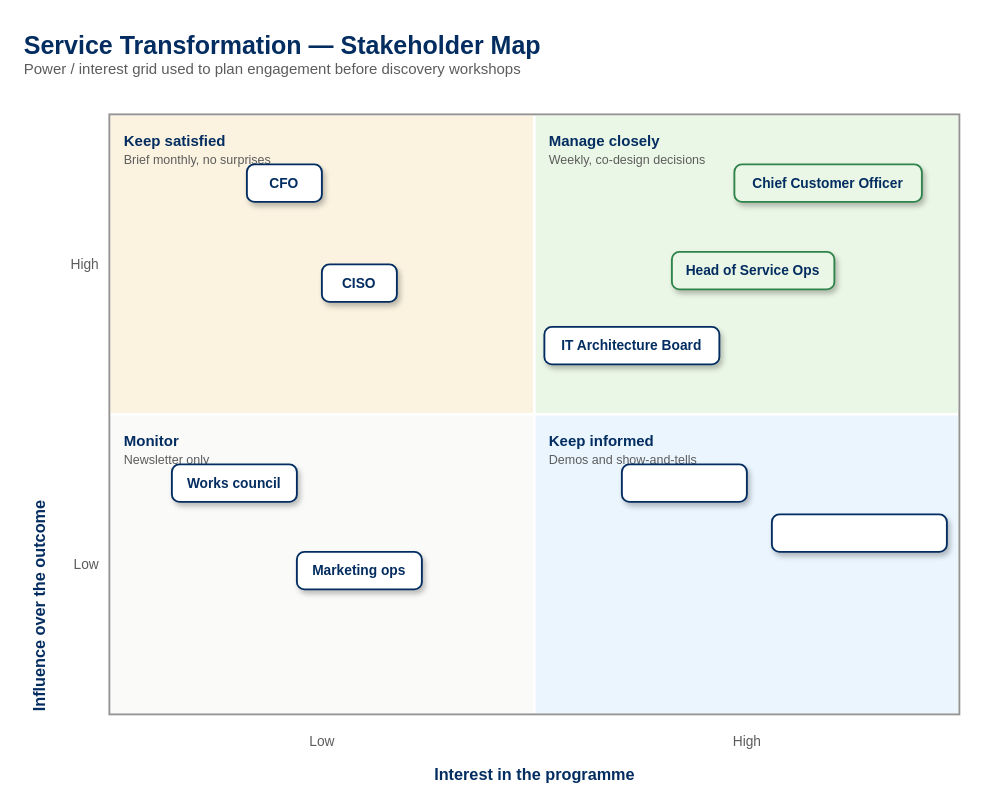
Some shapes in this 981 by 806 pixel diagram are drawn without their labels. The shapes that lost their labels are listed below. From the top down, each one's centre as x and y in pixels, then its label:
At pixel 685 484: "Team leaders".
At pixel 860 534: "Contact centre agents".
